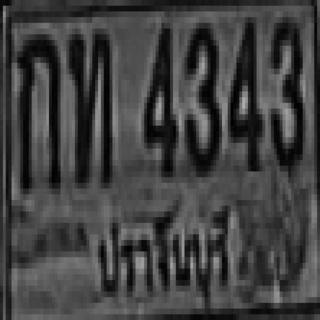A01: (16, 28, 59, 188)
A23: (66, 29, 110, 183)
N03: (182, 17, 219, 171), (268, 11, 303, 166)
N04: (228, 11, 259, 166), (143, 17, 174, 171)
P49: (95, 199, 234, 318)
